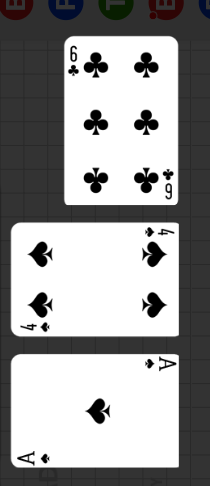4S: (143, 226, 176, 239)
6C: (67, 44, 81, 79)
AS: (16, 448, 54, 466)
